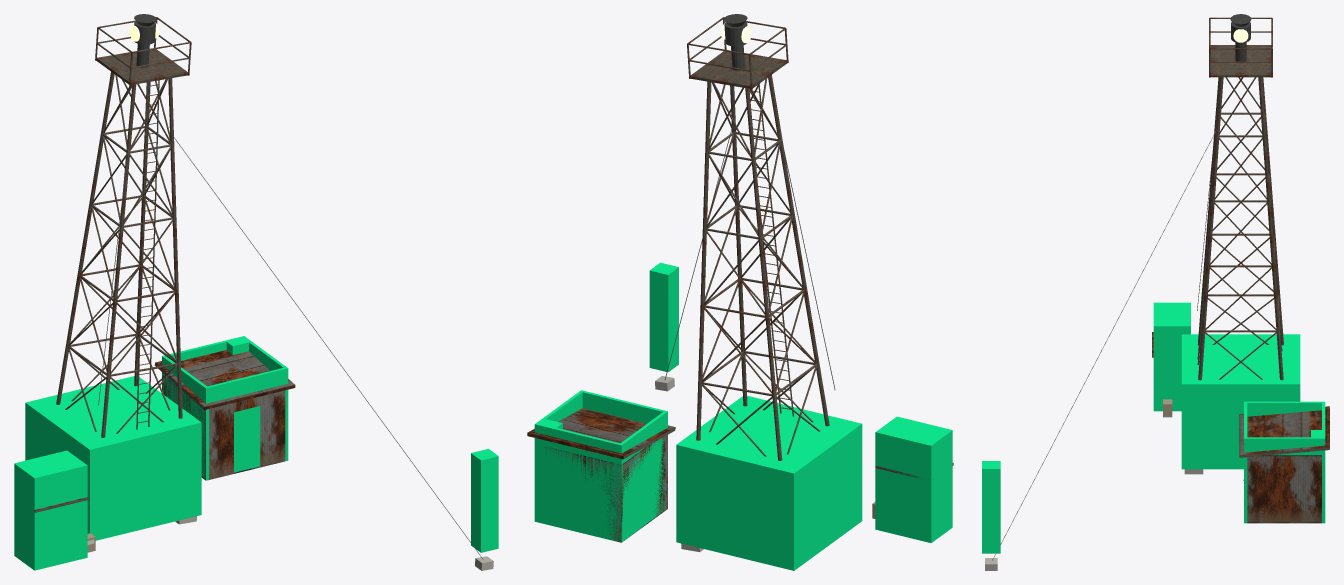
Rendered from beacon_tower.glb.
The picture shows the model from 3 angles, left to right: view 1: azimuth 30°, elevation 25°; view 2: azimuth 150°, elevation 25°; view 3: azimuth 270°, elevation 25°; orthographic projection. The views are drawn at different scales.
Visible parts, largest first — view 1: COL_BeaconTower, BeaconTower, COL_PigeonCoop, BeaconRoom, COL_GuyAnchor, COL_Door_BeaconRoom, COL_br_w0, COL_br_e0, BeaconHead; view 2: COL_BeaconTower, BeaconTower, COL_PigeonCoop, COL_br_n0, BeaconRoom, COL_br_w0, COL_GuyAnchor, BeaconHead, COL_br_e0; view 3: COL_BeaconTower, BeaconTower, BeaconRoom, COL_PigeonCoop, COL_GuyAnchor, COL_br_e0, COL_br_w0, BeaconHead, COL_br_n0.
Part boxes in pixels (bbox=[...]): COL_BeaconTower: bbox=[25, 376, 201, 540]; BeaconTower: bbox=[56, 17, 493, 570]; COL_PigeonCoop: bbox=[14, 450, 87, 570]; BeaconRoom: bbox=[154, 350, 295, 480]; COL_GuyAnchor: bbox=[471, 449, 498, 552]; COL_Door_BeaconRoom: bbox=[232, 374, 260, 472]; COL_br_w0: bbox=[162, 356, 208, 480]; COL_br_e0: bbox=[242, 336, 288, 461]; BeaconHead: bbox=[130, 14, 159, 44]; COL_BeaconTower: bbox=[676, 395, 862, 570]; BeaconTower: bbox=[655, 17, 835, 551]; COL_PigeonCoop: bbox=[875, 416, 952, 542]; COL_br_n0: bbox=[534, 423, 623, 542]; BeaconRoom: bbox=[527, 408, 675, 542]; COL_br_w0: bbox=[618, 412, 667, 542]; COL_GuyAnchor: bbox=[649, 262, 678, 372]; BeaconHead: bbox=[721, 14, 751, 46]; COL_br_e0: bbox=[534, 390, 583, 521]; COL_BeaconTower: bbox=[1181, 334, 1300, 469]; BeaconTower: bbox=[985, 17, 1283, 570]; BeaconRoom: bbox=[1239, 406, 1329, 523]; COL_PigeonCoop: bbox=[1153, 302, 1190, 411]; COL_GuyAnchor: bbox=[982, 461, 1000, 553]; COL_br_e0: bbox=[1244, 437, 1325, 455]; COL_br_w0: bbox=[1247, 401, 1321, 416]; BeaconHead: bbox=[1230, 14, 1251, 42]; COL_br_n0: bbox=[1322, 401, 1325, 523].
Size of the model in its own units: 12.6 by 16.24 by 11.15.
Materials: 22 (7 with a texture image).
